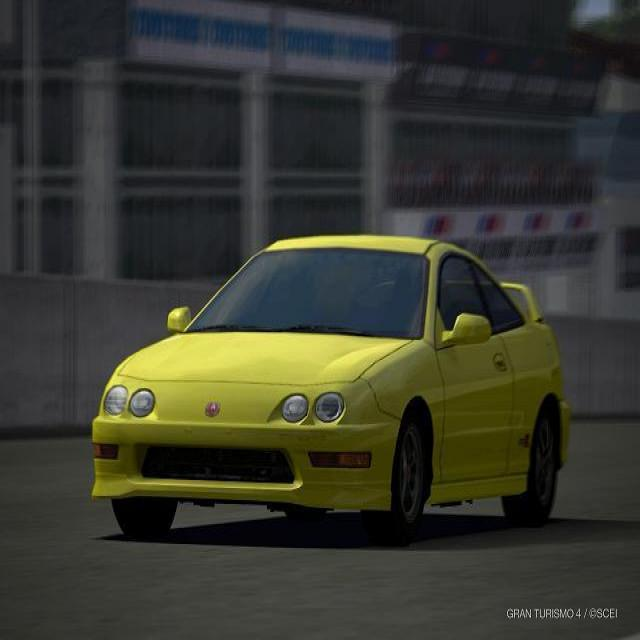Car: (85, 206, 594, 578)
